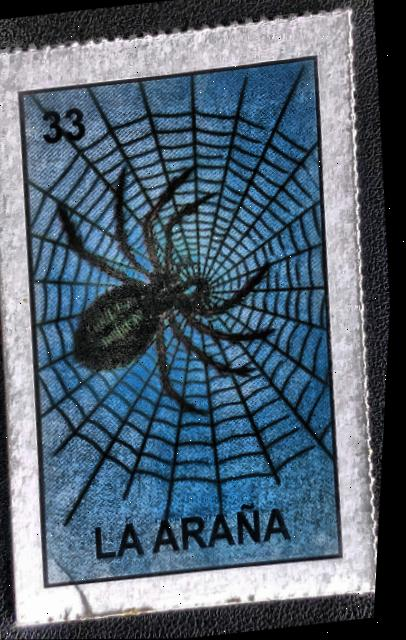La Arana: (0, 38, 384, 607)
